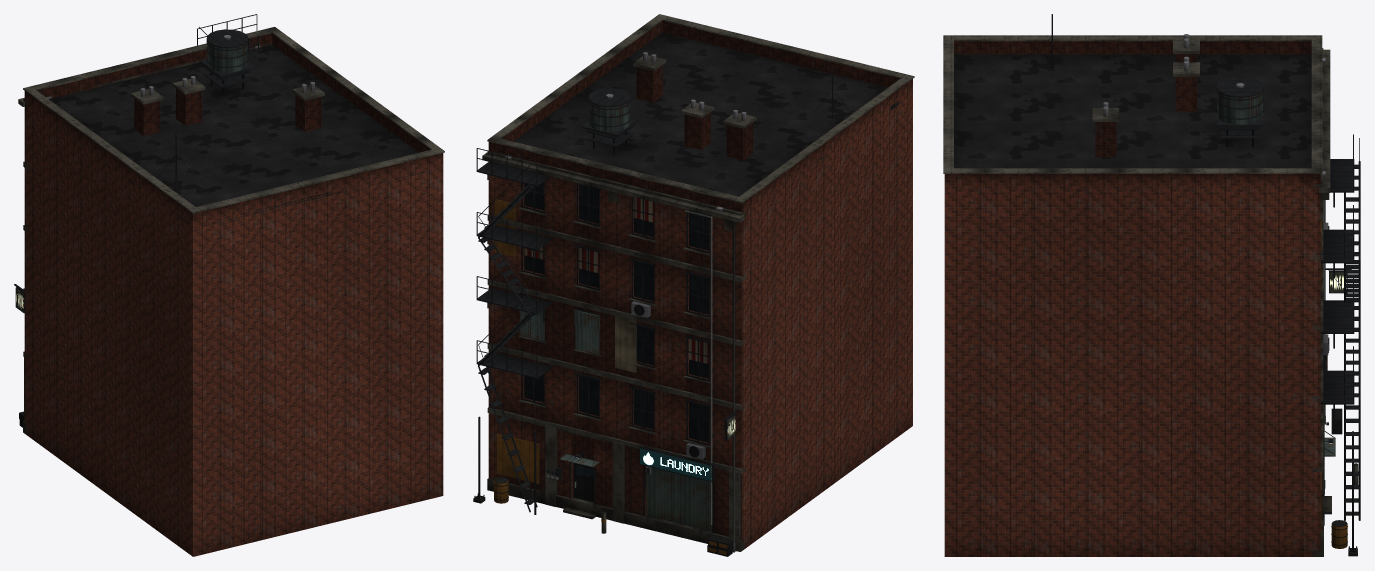
The model's file is service_tenement.glb.
3 renders of one model, left to right at view 1: azimuth 30°, elevation 25°; view 2: azimuth 150°, elevation 25°; view 3: azimuth 270°, elevation 25°, orthographic. The views are drawn at different scales.
Parts seen in each view (by area): view 1: service_tenement; view 2: service_tenement; view 3: service_tenement.
Boxes of the visible parts, x1,y1,x2,y2 form: service_tenement: [14, 14, 444, 556]; service_tenement: [473, 14, 914, 556]; service_tenement: [943, 14, 1360, 556].
Size of the model in its own units: 12.2 by 17.54 by 15.55.
